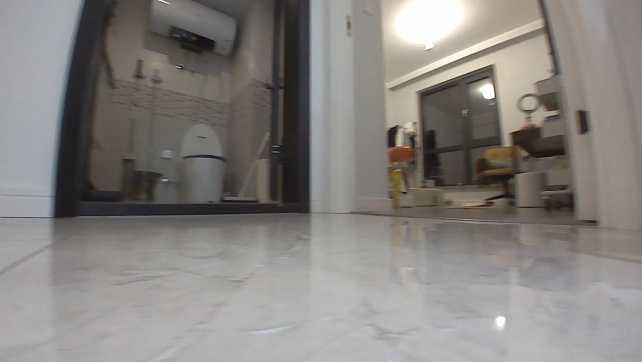toilet: (177, 118, 230, 201)
